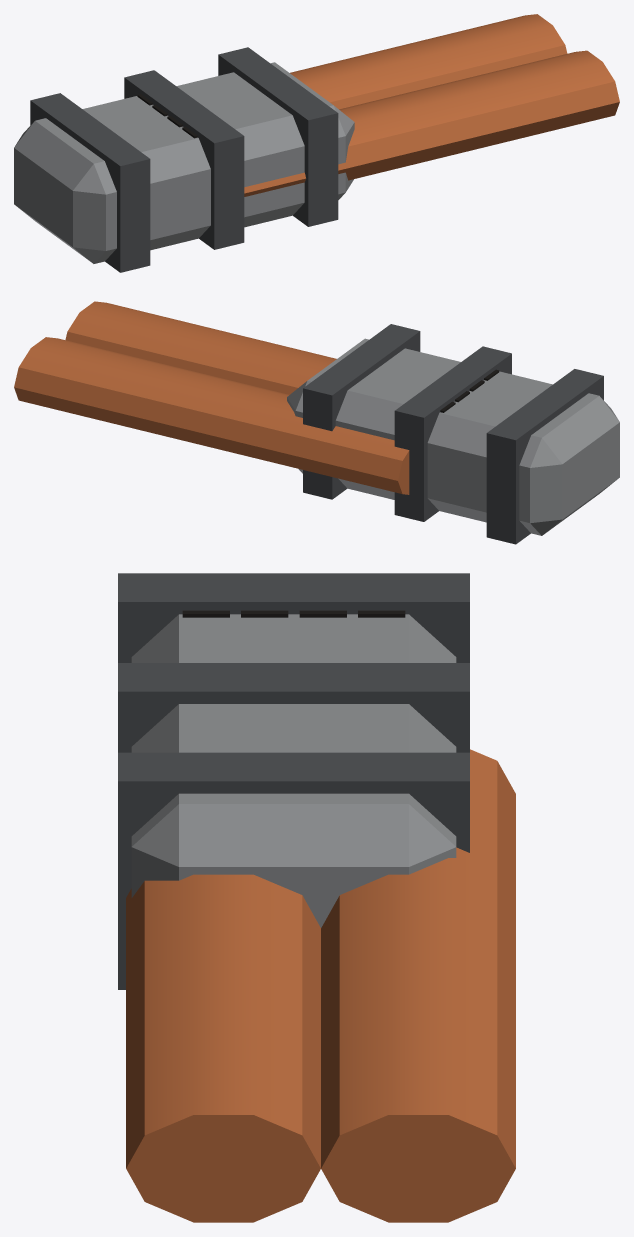
Rendered from heat-pipe-ending-right.glb.
3 views of the same model, one above another, from view 1: azimuth 30°, elevation 25°; view 2: azimuth 150°, elevation 25°; view 3: azimuth 270°, elevation 25° (orthographic). The views are drawn at different scales.
Visible parts, largest first — view 1: body; view 2: body; view 3: body.
Part boxes in pixels (box(x1,y1,x2,y2)): body: box(14, 14, 619, 272); body: box(14, 301, 619, 544); body: box(118, 573, 515, 1222).
Bounding box in the file's own units: 0.89 × 0.17 × 0.294.
